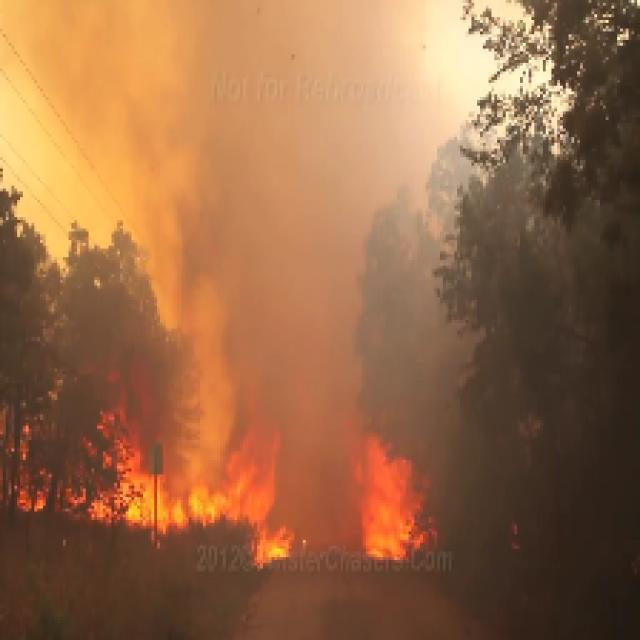Fire: (0, 368, 500, 600)
Smoke: (0, 0, 560, 360)
